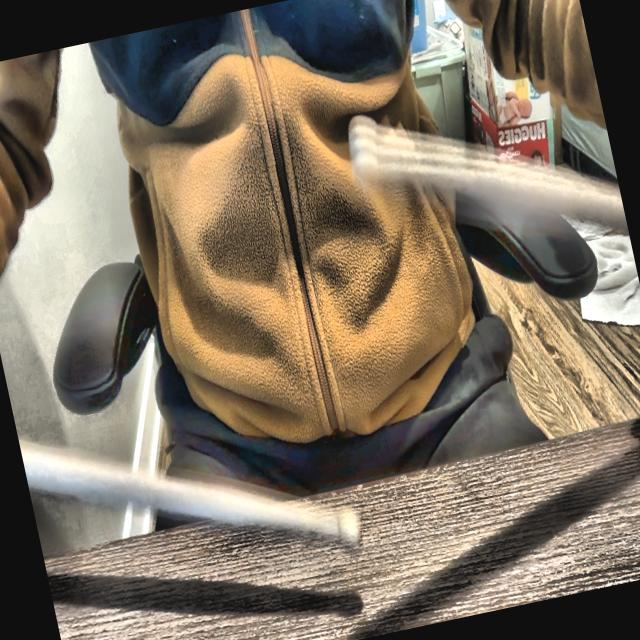Drumstick-Heads: (337, 108, 392, 192), (330, 492, 372, 558)
